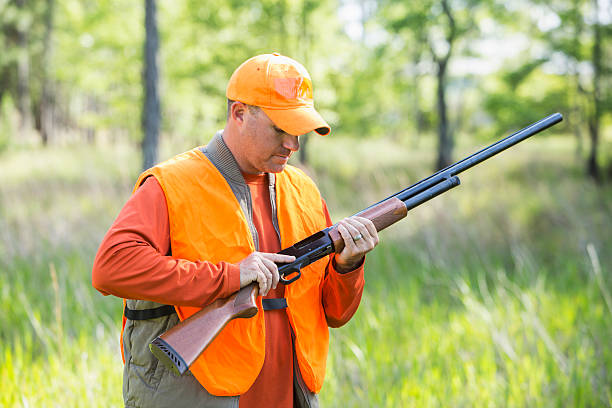shotgun: (150, 106, 566, 387)
